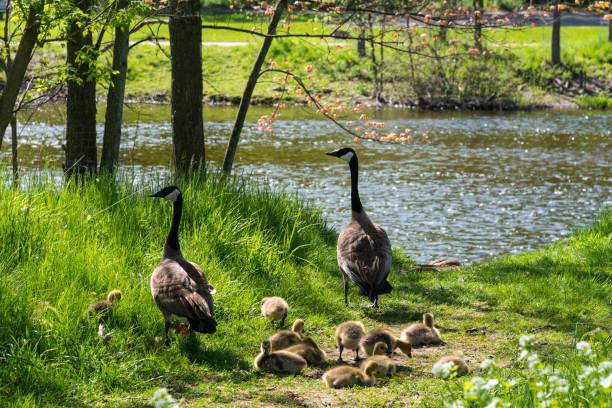Canadian-Goose: (144, 184, 218, 339), (323, 147, 399, 296), (81, 289, 128, 322), (254, 342, 305, 370), (322, 361, 378, 385), (361, 328, 407, 355), (403, 313, 438, 342), (289, 336, 329, 361), (364, 345, 397, 375), (334, 320, 362, 351), (270, 321, 308, 342), (254, 294, 290, 314)
